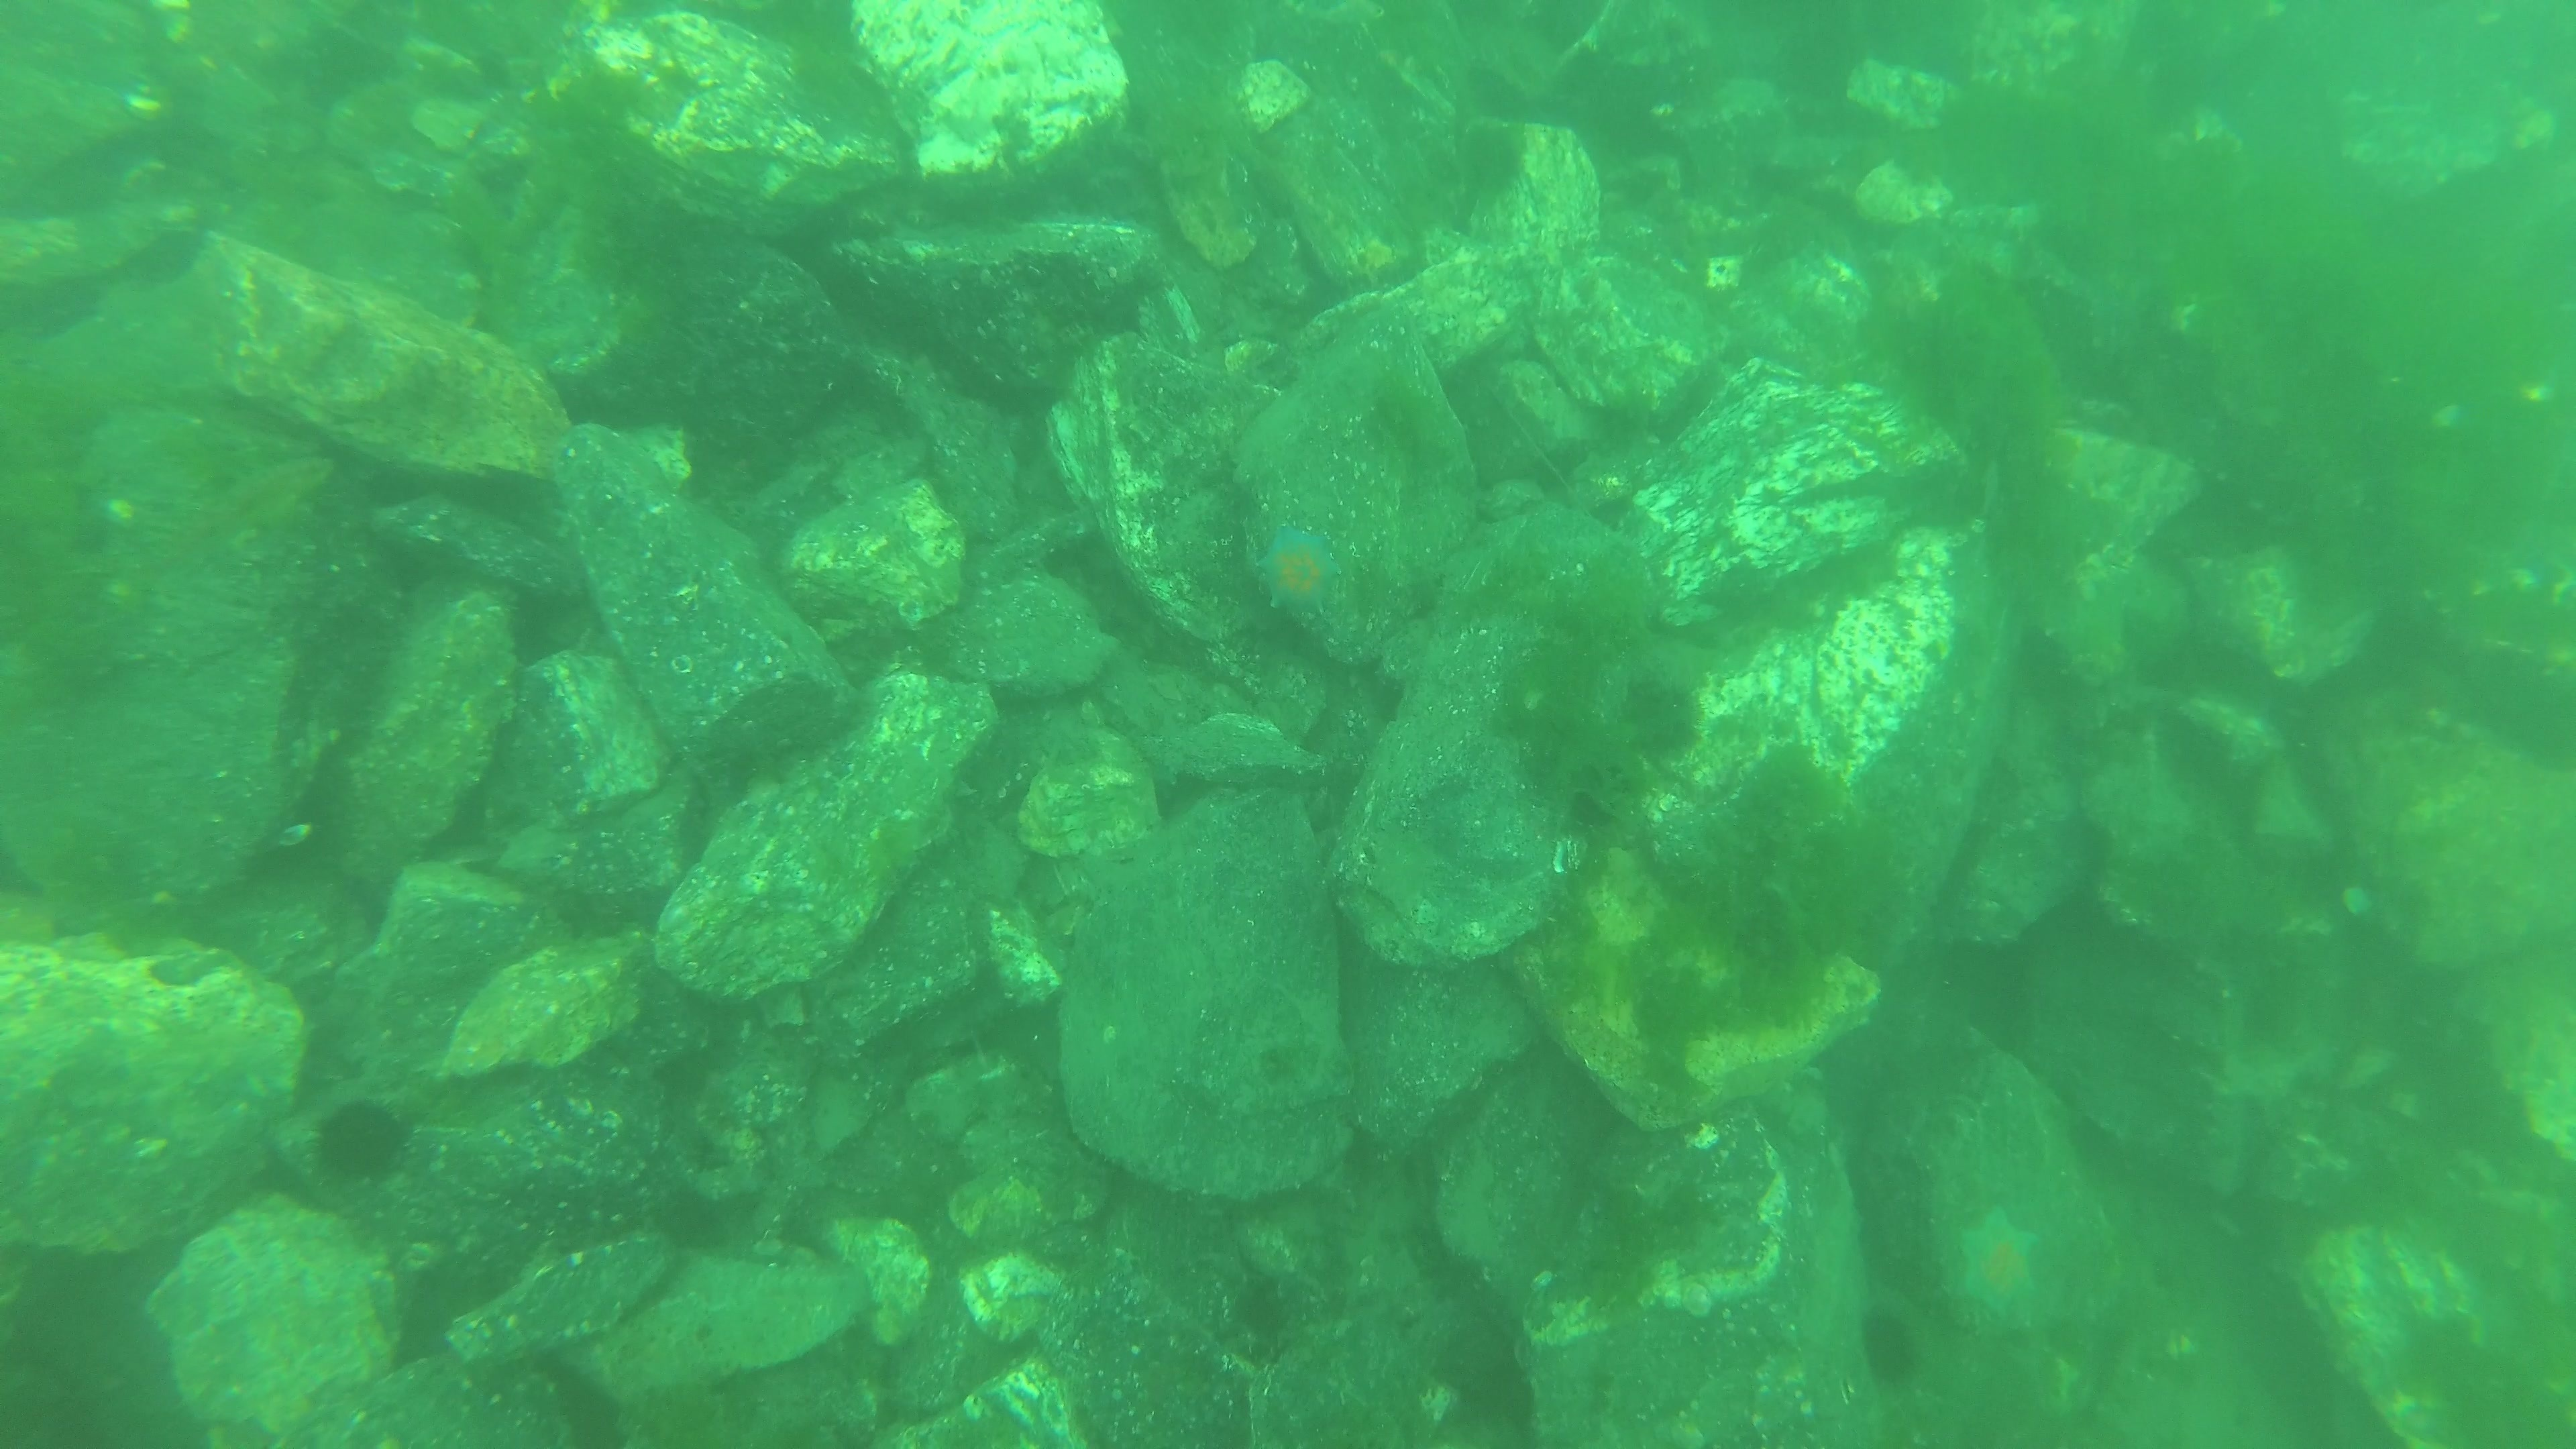echinus: (315, 1095, 409, 1180), (1859, 1302, 1923, 1384)
starfish: (1955, 1207, 2047, 1311), (1254, 524, 1346, 623)
